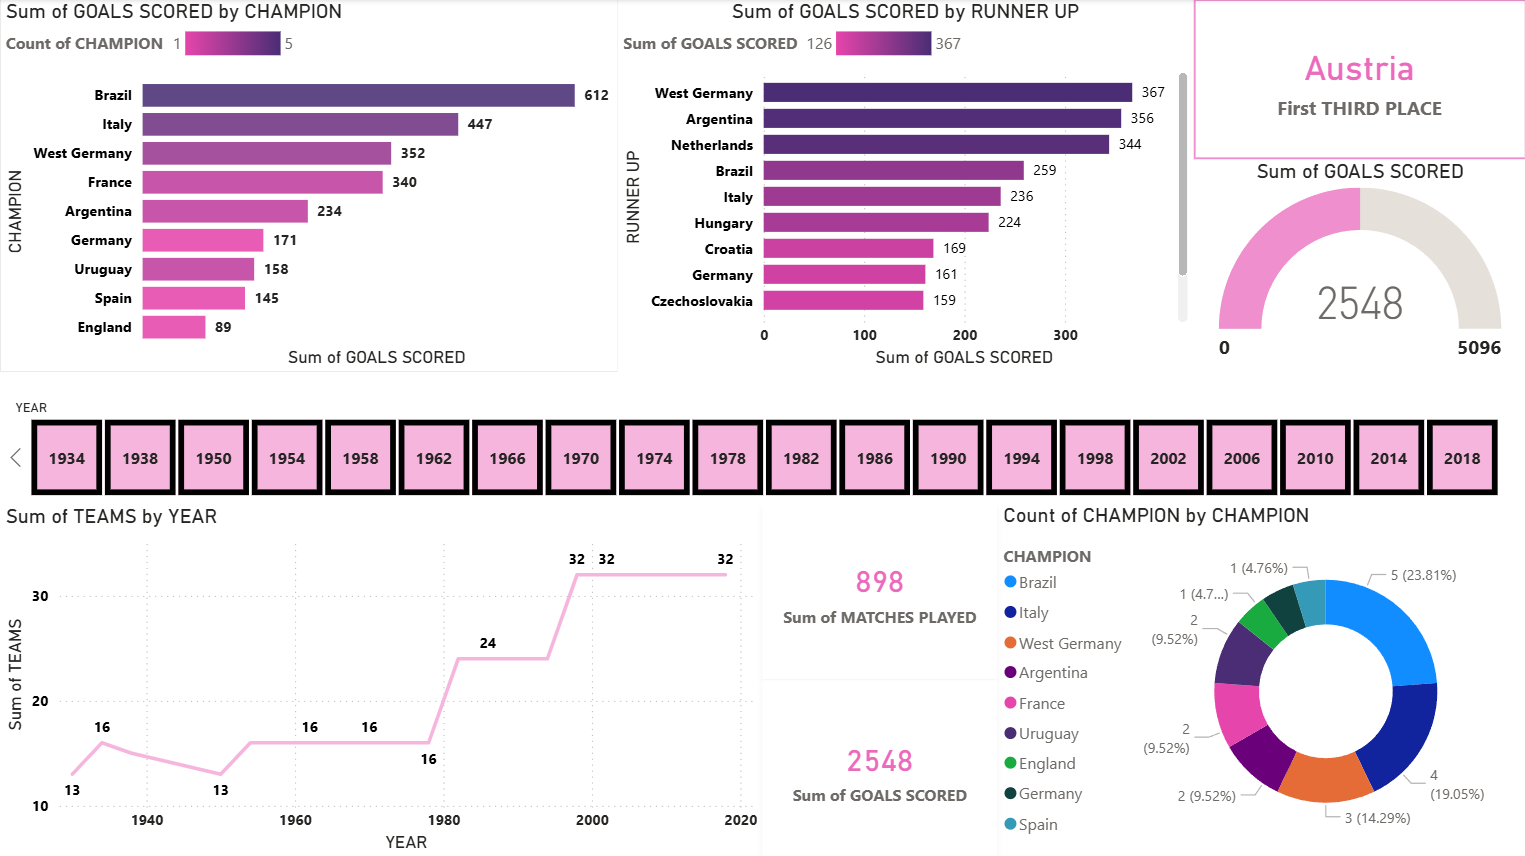

What the dashboard file says about the page in this screenshot:
{"tool":"powerbi","page":{"name":"Page 1","canvas":[1280,720],"ordinal":0},"visuals":[{"type":"clusteredBarChart","fields":{"Category":["FIFA - World Cup Summary.CHAMPION"],"Y":["Sum(FIFA - World Cup Summary.GOALS SCORED)"]},"box":[0,0,517.5,313.6],"z":0},{"type":"clusteredBarChart","fields":{"Y":["Sum(FIFA - World Cup Summary.GOALS SCORED)"],"Category":["FIFA - World Cup Summary.RUNNER UP"]},"box":[517.5,0,483.3,313.6],"z":1000},{"type":"gauge","fields":{"Y":["Sum(FIFA - World Cup Summary.GOALS SCORED)"]},"box":[1000.9,134.4,279.4,179.2],"z":2000},{"type":"lineChart","fields":{"Category":["FIFA - World Cup Summary.YEAR"],"Y":["Sum(FIFA - World Cup Summary.TEAMS)"]},"box":[0,423.2,640.1,297.1],"z":3000},{"type":"card","fields":{"Values":["Min(FIFA - World Cup Summary.THIRD PLACE)"]},"box":[1000.9,0,279.4,134.4],"z":4000},{"type":"donutChart","fields":{"Category":["FIFA - World Cup Summary.CHAMPION"],"Y":["CountNonNull(FIFA - World Cup Summary.CHAMPION)"]},"box":[836.9,422.6,443.1,297.4],"z":5000},{"type":"card","fields":{"Values":["Sum(FIFA - World Cup Summary.MATCHES PLAYED)"]},"box":[640,422.9,196.7,148.1],"z":6000},{"type":"slicer","fields":{"Values":["FIFA - World Cup Summary.YEAR"]},"box":[0,331.3,1280.2,92],"z":7000},{"type":"card","fields":{"Values":["Sum(FIFA - World Cup Summary.GOALS SCORED)"]},"box":[640,571,196.7,149.2],"z":7001}]}

Visuals, with their boxes in screenshot pixels (x1, y1, x2, y2), scaled from the page's 1280x720 canvas onto the 1525x856 screenshot:
clusteredBarChart - FIFA - World Cup Summary.CHAMPION x Sum(FIFA - World Cup Summary.GOALS SCORED): detection(0, 0, 617, 373)
clusteredBarChart - Sum(FIFA - World Cup Summary.GOALS SCORED) x FIFA - World Cup Summary.RUNNER UP: detection(617, 0, 1192, 373)
gauge - Sum(FIFA - World Cup Summary.GOALS SCORED): detection(1192, 160, 1524, 373)
lineChart - FIFA - World Cup Summary.YEAR x Sum(FIFA - World Cup Summary.TEAMS): detection(0, 503, 763, 855)
card - Min(FIFA - World Cup Summary.THIRD PLACE): detection(1192, 0, 1524, 160)
donutChart - FIFA - World Cup Summary.CHAMPION x CountNonNull(FIFA - World Cup Summary.CHAMPION): detection(997, 502, 1524, 855)
card - Sum(FIFA - World Cup Summary.MATCHES PLAYED): detection(762, 503, 997, 679)
slicer - FIFA - World Cup Summary.YEAR: detection(0, 394, 1524, 503)
card - Sum(FIFA - World Cup Summary.GOALS SCORED): detection(762, 679, 997, 855)
